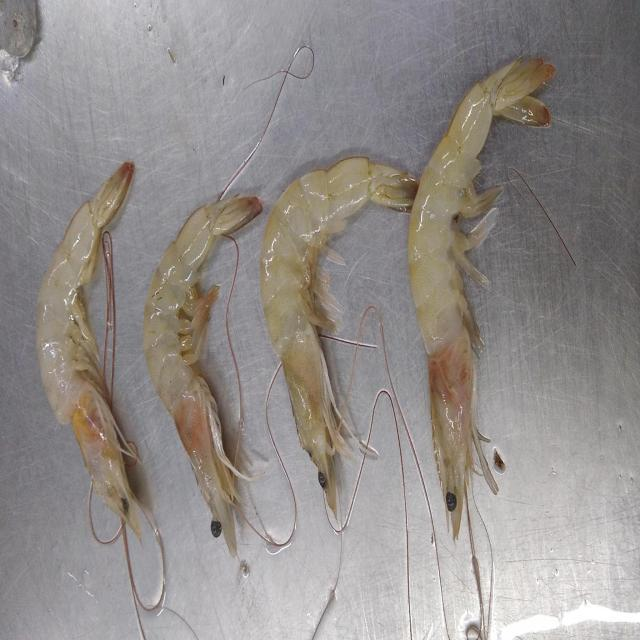shrimp: (409, 58, 555, 540), (260, 158, 419, 513), (144, 196, 262, 556), (36, 162, 141, 540)
